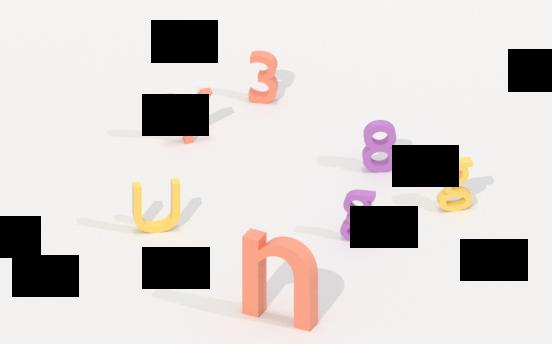3: (245, 48, 283, 105)
8: (357, 118, 401, 175)
Y-hoa: (160, 85, 217, 147)
g: (339, 186, 384, 246), (436, 154, 479, 215)
n: (230, 229, 325, 328)
u: (127, 177, 186, 234)
